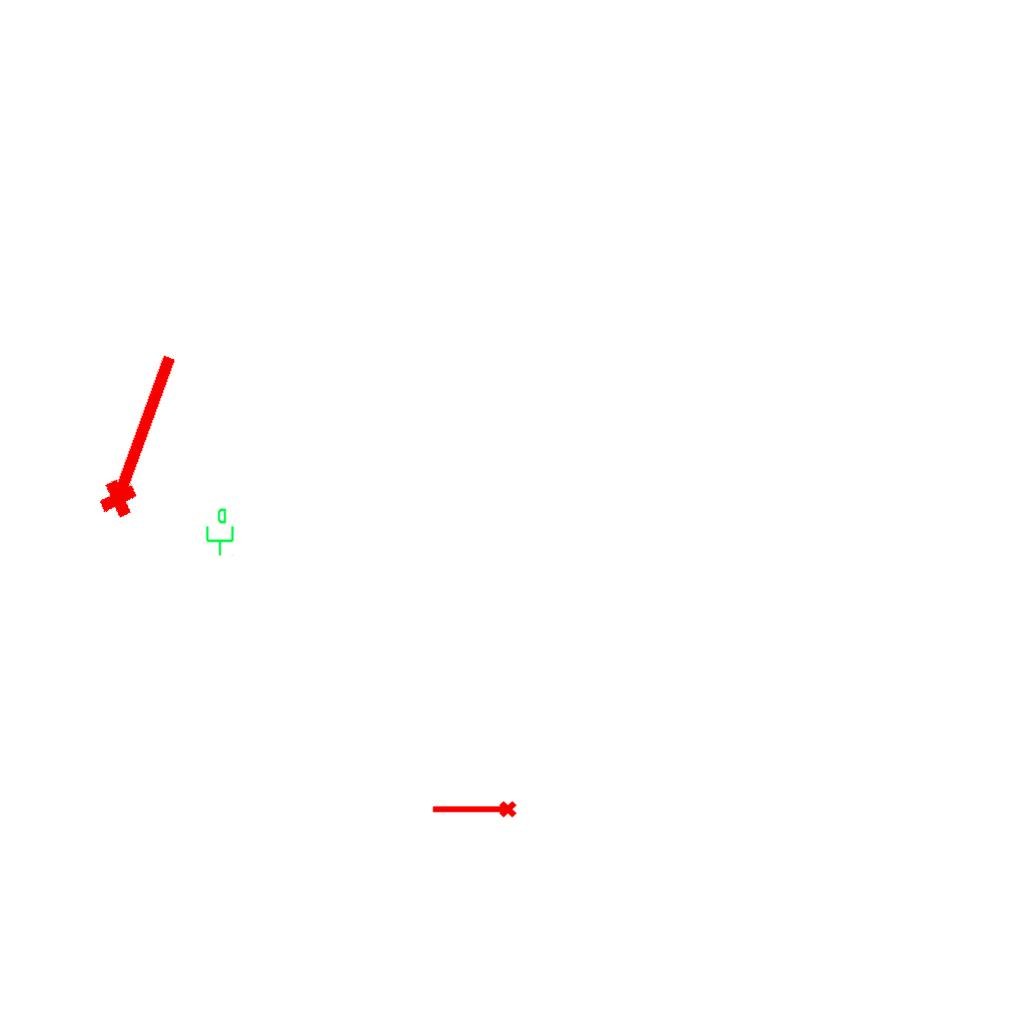ASR_Ansaugoeffnung: (87, 343, 191, 525), (430, 799, 518, 822)
Datenanschluss_einfach: (202, 507, 236, 557)
